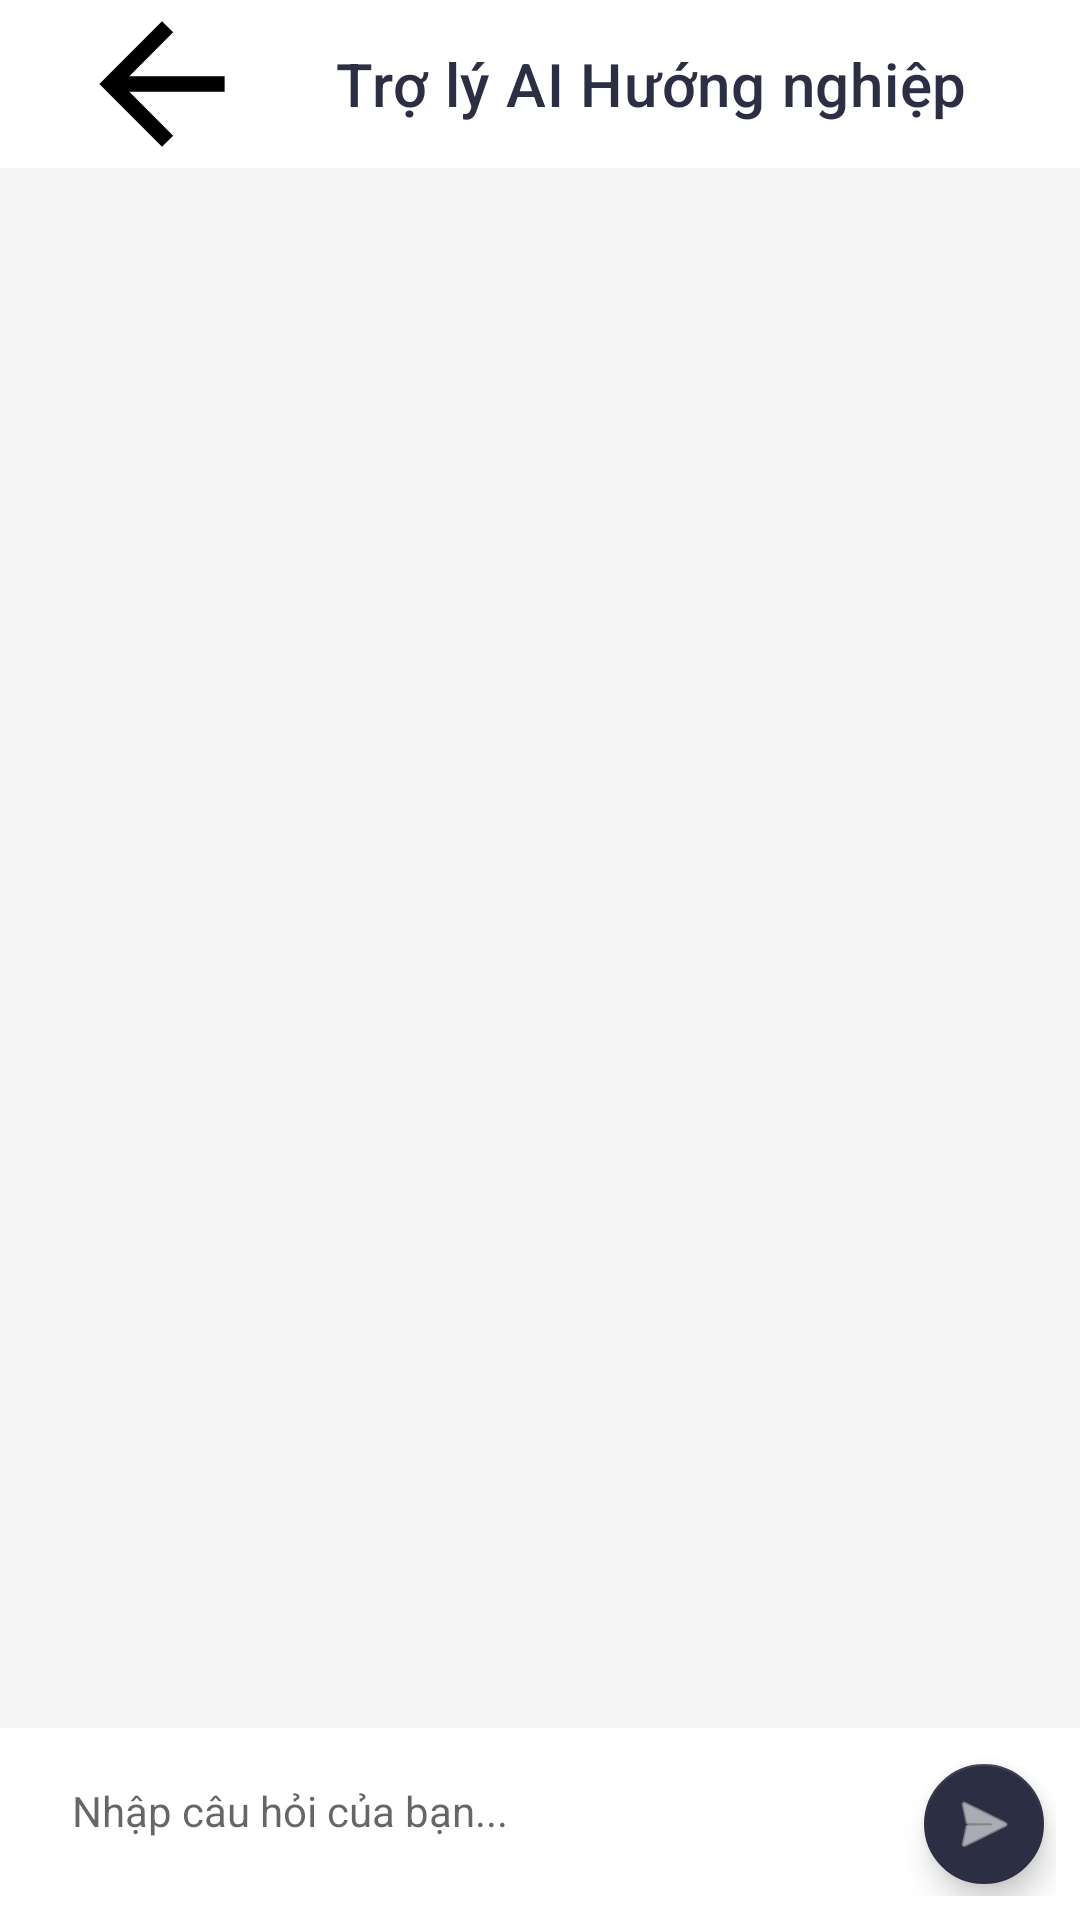

Named icons in this screenshot (1080px×1920px) and their bounding boxes, rect(x1, y1, x2, y2):
send: rect(924, 1764, 1047, 1896)
